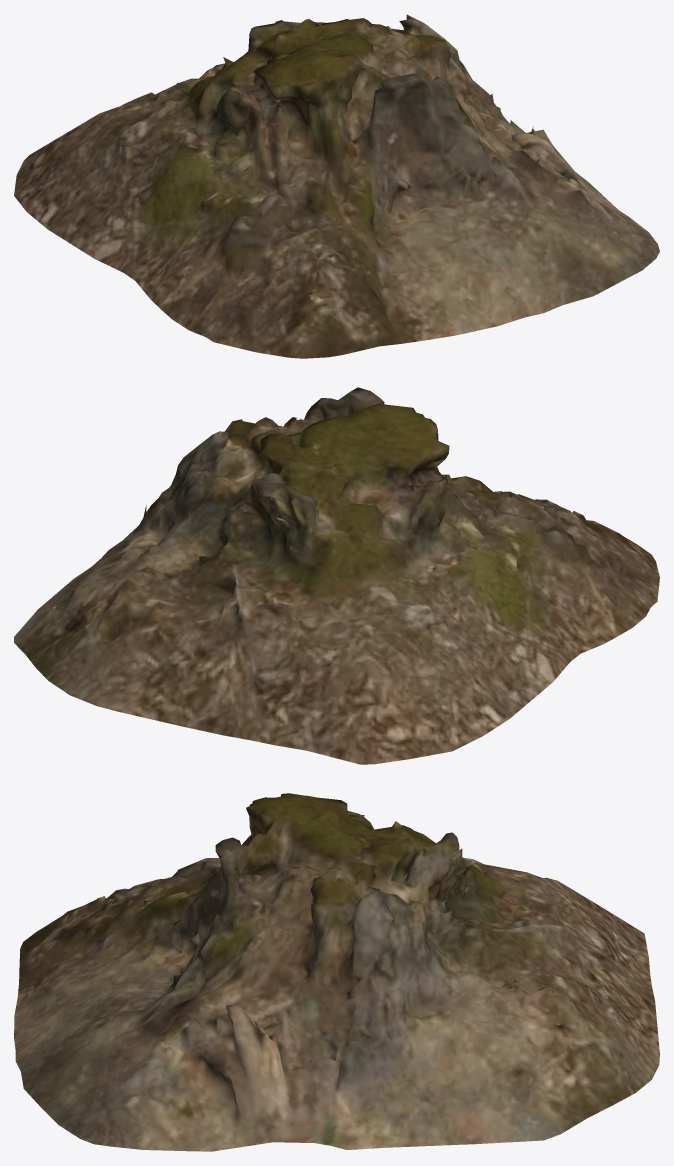
File: tree_stump_01_lod1.glb
The picture shows the model from 3 angles, top to bottom: view 1: azimuth 30°, elevation 25°; view 2: azimuth 150°, elevation 25°; view 3: azimuth 270°, elevation 25°; orthographic projection. The views are drawn at different scales.
Visible parts, largest first — view 1: tree_stump_01; view 2: tree_stump_01; view 3: tree_stump_01.
Boxes of the visible parts, x1=… form: tree_stump_01: x1=14, y1=14, x2=659, y2=358; tree_stump_01: x1=14, y1=387, x2=659, y2=764; tree_stump_01: x1=14, y1=793, x2=659, y2=1151.
Size of the model in its own units: 1.43 by 0.5709 by 1.59.
Materials: 1 (1 with a texture image).
